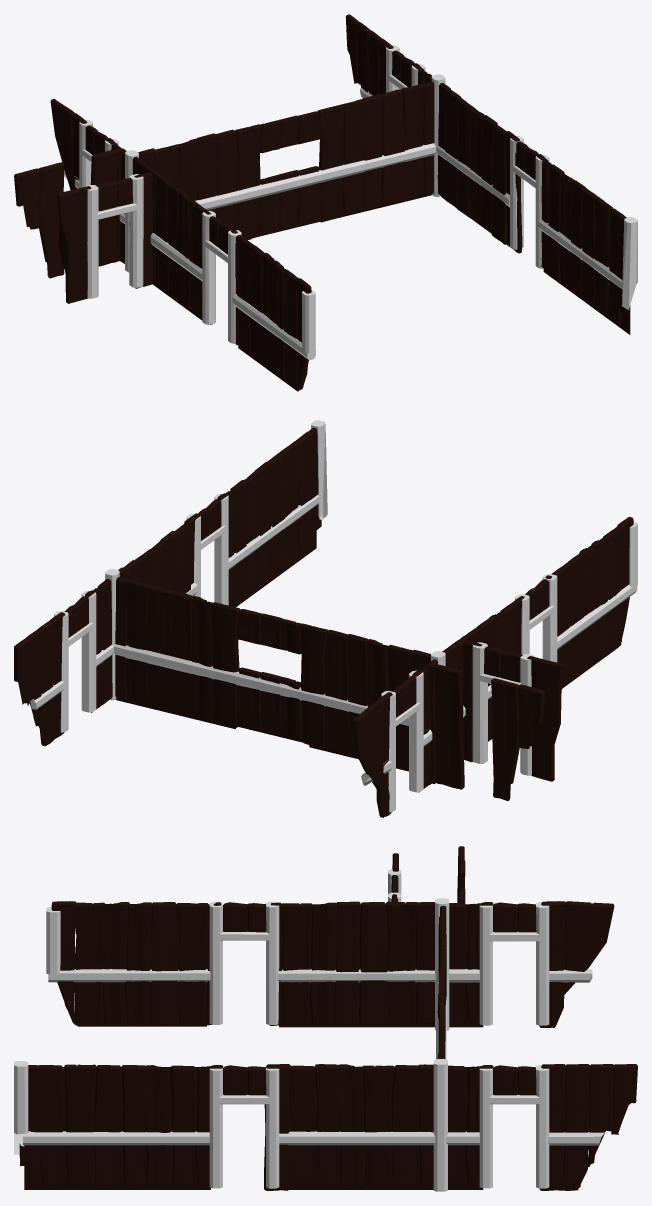
File: WallsInside.fbx
3 views of the same model, one above another, from view 1: azimuth 30°, elevation 25°; view 2: azimuth 150°, elevation 25°; view 3: azimuth 270°, elevation 25° (orthographic). The views are drawn at different scales.
Visible parts, largest first — view 1: DoorFrame005, parede027, Box086, DoorFrame004, Parede015, parede010, Parede056, parede011, Parede012, Parede013, DoorFrame003, parede009 (+55 smaller); view 2: Box100, Parede055, Box086, Parede056, parede027, parede010, parede011, DoorFrame01, DoorFrame005, Parede019, DoorFrame002, Parede012 (+51 smaller); view 3: DoorFrame002, DoorFrame01, DoorFrame003, DoorFrame004, Parede026, parede015, parede020, parede014, Parede030, parede019, parede013, parede016 (+52 smaller).
Part boxes in pixels (x1,y1,x2,y2): DoorFrame005: (86, 174, 143, 298); parede027: (57, 186, 91, 303); Box086: (195, 143, 435, 210); DoorFrame004: (202, 211, 241, 343); Parede015: (381, 89, 405, 206); parede010: (317, 105, 344, 222); Parede056: (39, 162, 64, 278); parede011: (235, 124, 261, 239); Parede012: (342, 99, 364, 215); Parede013: (362, 94, 382, 211); DoorFrame003: (510, 136, 549, 268); parede009: (401, 84, 423, 200); Box100: (115, 582, 235, 729); Parede055: (434, 664, 464, 789); Box086: (114, 644, 408, 725); Parede056: (491, 678, 519, 800); parede027: (527, 656, 563, 781); parede010: (211, 602, 240, 727); parede011: (299, 623, 328, 749); DoorFrame01: (54, 590, 96, 732); DoorFrame005: (472, 642, 534, 775); Parede019: (324, 629, 348, 752); DoorFrame002: (381, 670, 423, 812); Parede012: (191, 596, 213, 720); DoorFrame002: (479, 902, 549, 1025); DoorFrame01: (479, 1065, 549, 1188); DoorFrame003: (209, 1065, 279, 1188); DoorFrame004: (209, 901, 279, 1024); Parede026: (359, 902, 388, 1025); parede015: (176, 903, 208, 1025); parede020: (64, 1064, 96, 1187); parede014: (281, 903, 312, 1025); Parede030: (150, 902, 179, 1025); parede019: (362, 1065, 394, 1188); parede013: (385, 901, 416, 1024); parede016: (74, 902, 105, 1025).
Size of the model in its own units: 3055 by 822 by 3605.
